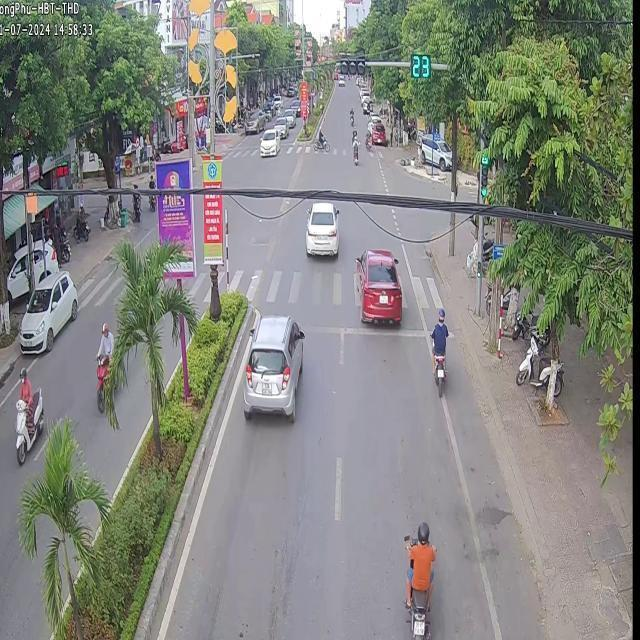car: (242, 314, 303, 419), (354, 247, 400, 322), (304, 200, 337, 255)
green_light: (337, 56, 364, 74), (479, 151, 489, 182)
motobike: (403, 520, 434, 638), (429, 307, 447, 392)
stop_line: (256, 320, 432, 337)
